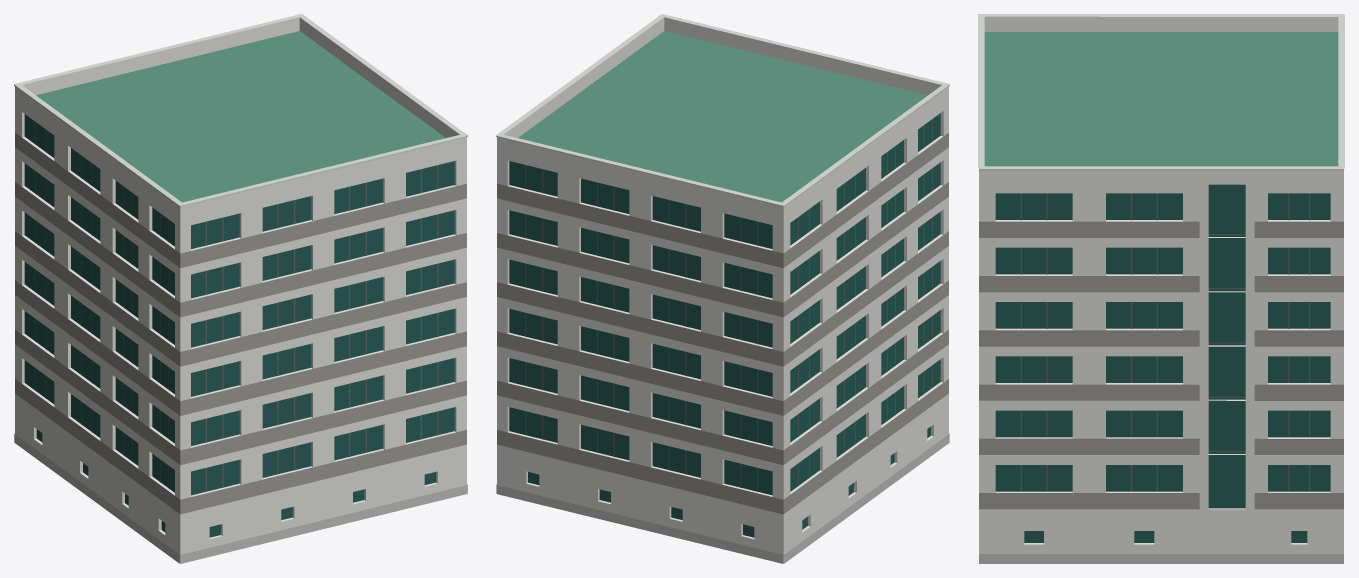
The picture shows the model from 3 angles, left to right: view 1: azimuth 30°, elevation 25°; view 2: azimuth 150°, elevation 25°; view 3: azimuth 270°, elevation 25°; orthographic projection. The views are drawn at different scales.
Visible parts, largest first — view 1: educationAnnex__wall, educationAnnex__glass, educationAnnex__wall2, educationAnnex__roof, educationAnnex__parapet, educationAnnex__trim, educationAnnex__base, educationAnnex__frame; view 2: educationAnnex__wall, educationAnnex__glass, educationAnnex__wall2, educationAnnex__roof, educationAnnex__parapet, educationAnnex__trim, educationAnnex__base, educationAnnex__frame; view 3: educationAnnex__wall, educationAnnex__roof, educationAnnex__glass, educationAnnex__wall2, educationAnnex__parapet, educationAnnex__trim, educationAnnex__base, educationAnnex__frame.
Boxes of the visible parts, x1=… form: educationAnnex__wall: x1=15, y1=98, x2=466, y2=563; educationAnnex__glass: x1=24, y1=114, x2=454, y2=537; educationAnnex__wall2: x1=15, y1=132, x2=466, y2=514; educationAnnex__roof: x1=36, y1=31, x2=445, y2=202; educationAnnex__parapet: x1=15, y1=17, x2=466, y2=218; educationAnnex__trim: x1=14, y1=14, x2=467, y2=206; educationAnnex__base: x1=14, y1=433, x2=467, y2=563; educationAnnex__frame: x1=35, y1=121, x2=438, y2=491; educationAnnex__wall: x1=497, y1=98, x2=948, y2=563; educationAnnex__glass: x1=509, y1=113, x2=940, y2=537; educationAnnex__wall2: x1=497, y1=133, x2=948, y2=514; educationAnnex__roof: x1=518, y1=31, x2=927, y2=202; educationAnnex__parapet: x1=497, y1=17, x2=948, y2=218; educationAnnex__trim: x1=496, y1=14, x2=949, y2=206; educationAnnex__base: x1=496, y1=433, x2=949, y2=563; educationAnnex__frame: x1=525, y1=119, x2=932, y2=491; educationAnnex__wall: x1=979, y1=183, x2=1343, y2=553; educationAnnex__roof: x1=984, y1=32, x2=1338, y2=166; educationAnnex__glass: x1=995, y1=184, x2=1330, y2=542; educationAnnex__wall2: x1=979, y1=221, x2=1343, y2=509; educationAnnex__parapet: x1=979, y1=16, x2=1343, y2=183; educationAnnex__trim: x1=978, y1=14, x2=1344, y2=170; educationAnnex__base: x1=979, y1=554, x2=1343, y2=563; educationAnnex__frame: x1=1020, y1=193, x2=1310, y2=491.
Size of the model in its own units: 19.92 by 23.65 by 19.91.
